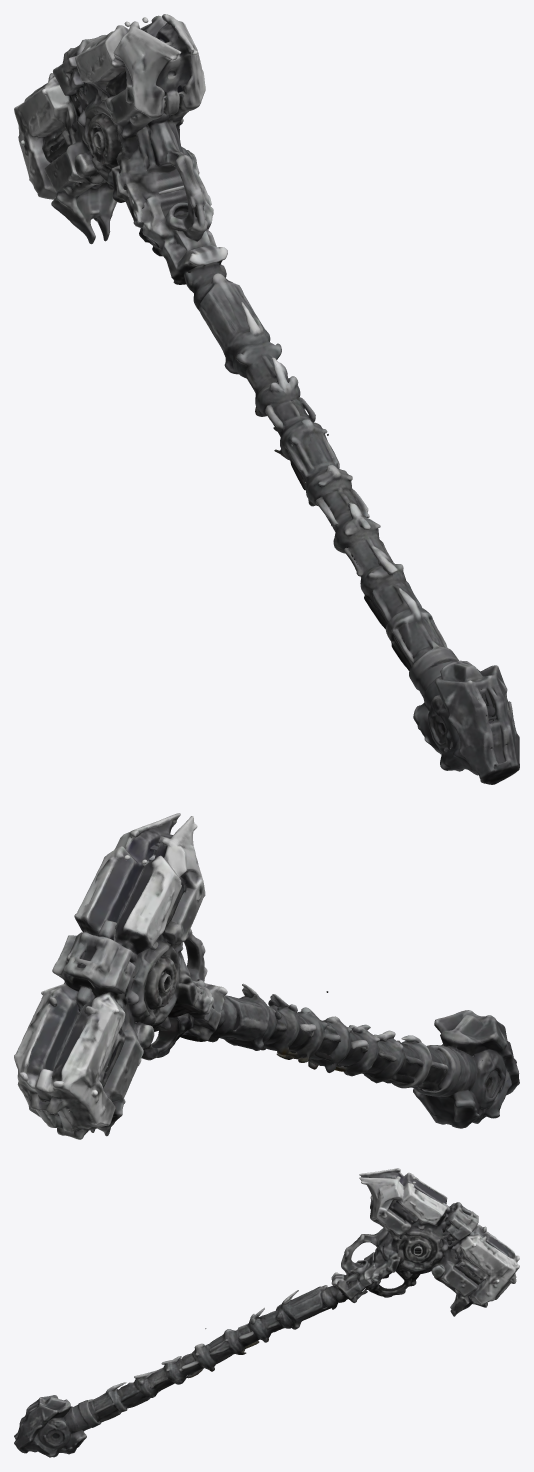
3 renders of one model, top to bottom at view 1: azimuth 30°, elevation 25°; view 2: azimuth 150°, elevation 25°; view 3: azimuth 270°, elevation 25°, orthographic. The views are drawn at different scales.
Parts seen in each view (by area): view 1: world; view 2: world; view 3: world.
Boxes of the visible parts, left/top/right/bottom form: world: left=14, top=14, right=519, bottom=784; world: left=14, top=813, right=519, bottom=1139; world: left=14, top=1168, right=519, bottom=1457.
Bounding box in the file's own units: 0.0988 × 0.6134 × 0.9968.
Materials: 1 (1 with a texture image).
